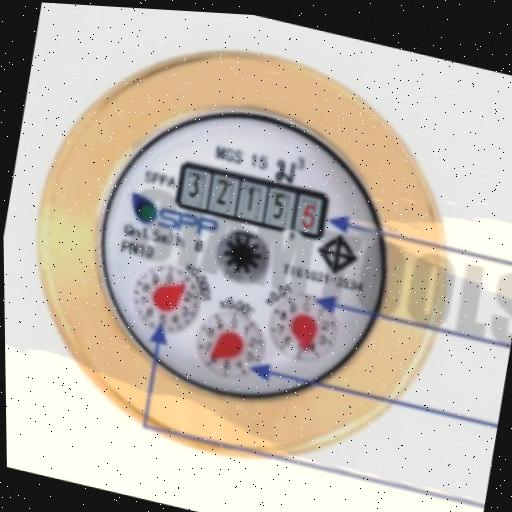1: (240, 185, 262, 220)
2: (211, 178, 232, 215)
3: (183, 172, 205, 208)
5: (269, 192, 289, 227), (299, 200, 319, 233)
border_water_meter_number: (173, 159, 331, 242)
